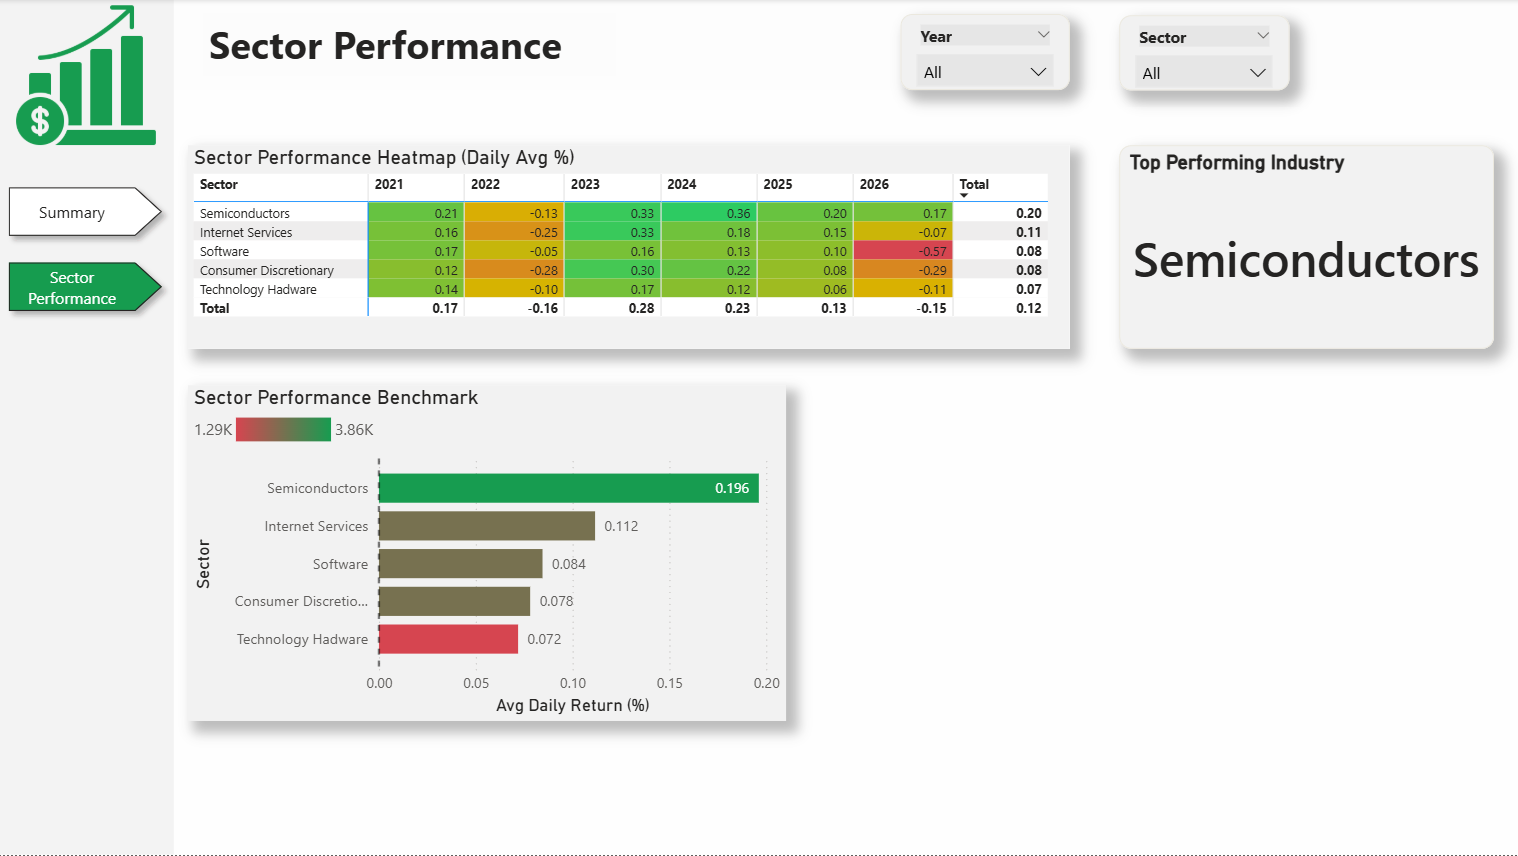

The page's visual inventory and layout, read from the dashboard file:
{"tool":"powerbi","page":{"name":"Sector Performance","canvas":[1280,720],"ordinal":1},"visuals":[{"type":"shape","box":[0,0,147.9,719.6],"z":0},{"type":"image","box":[0,5.8,147.8,117.5],"z":1000},{"type":"pageNavigator","box":[0,149.1,147.8,123.7],"z":2000},{"type":"shape","box":[147.9,0,1132.1,76.6],"z":3000},{"type":"textbox","box":[172.6,12,347.2,52.6],"z":4000},{"type":"slicer","fields":{"Values":["Calendar.Year"]},"box":[759,13,142.3,63.7],"z":5000},{"type":"pivotTable","title":"Sector Performance Heatmap (Daily Avg %)","fields":{"Rows":["public v_stock_analysis.sector"],"Values":["Avg(public v_stock_analysis.daily_return_pct)"],"Columns":["Calendar.Time Intelligence.Year","Calendar.Time Intelligence.Quarter","Calendar.Time Intelligence.Month"]},"box":[159.6,123.1,741.6,171.3],"z":6000},{"type":"clusteredBarChart","title":"Sector Performance Benchmark","fields":{"Category":["public v_stock_analysis.sector"],"Y":["Avg(public v_stock_analysis.daily_return_pct)"]},"box":[159.6,325.4,503.5,282.1],"z":7000},{"type":"card","title":"Top Performing Industry","fields":{"Values":["public v_stock_analysis.Top Performing Sector"]},"box":[942.7,123.1,314.8,171.3],"z":8000},{"type":"slicer","fields":{"Values":["public v_stock_analysis.sector"]},"box":[942.7,13.6,142.9,63.1],"z":10000}]}

Visuals, with their boxes in screenshot pixels (x1, y1, x2, y2), scaled from the page's 1280x720 canvas onto the 1518x856 screenshot:
shape: (left=0, top=0, right=175, bottom=855)
image: (left=0, top=7, right=175, bottom=147)
pageNavigator: (left=0, top=177, right=175, bottom=324)
shape: (left=175, top=0, right=1517, bottom=91)
textbox: (left=205, top=14, right=616, bottom=77)
slicer - Calendar.Year: (left=900, top=15, right=1069, bottom=91)
"Sector Performance Heatmap (Daily Avg %)" pivotTable: (left=189, top=146, right=1069, bottom=350)
"Sector Performance Benchmark" clusteredBarChart: (left=189, top=387, right=786, bottom=722)
"Top Performing Industry" card: (left=1118, top=146, right=1491, bottom=350)
slicer - public v_stock_analysis.sector: (left=1118, top=16, right=1287, bottom=91)
